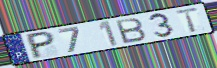1: (98, 19, 120, 48)
3: (148, 11, 176, 40)
7: (56, 25, 83, 54)
B: (114, 17, 148, 45)
P: (26, 30, 56, 61)
T: (175, 6, 201, 34)
